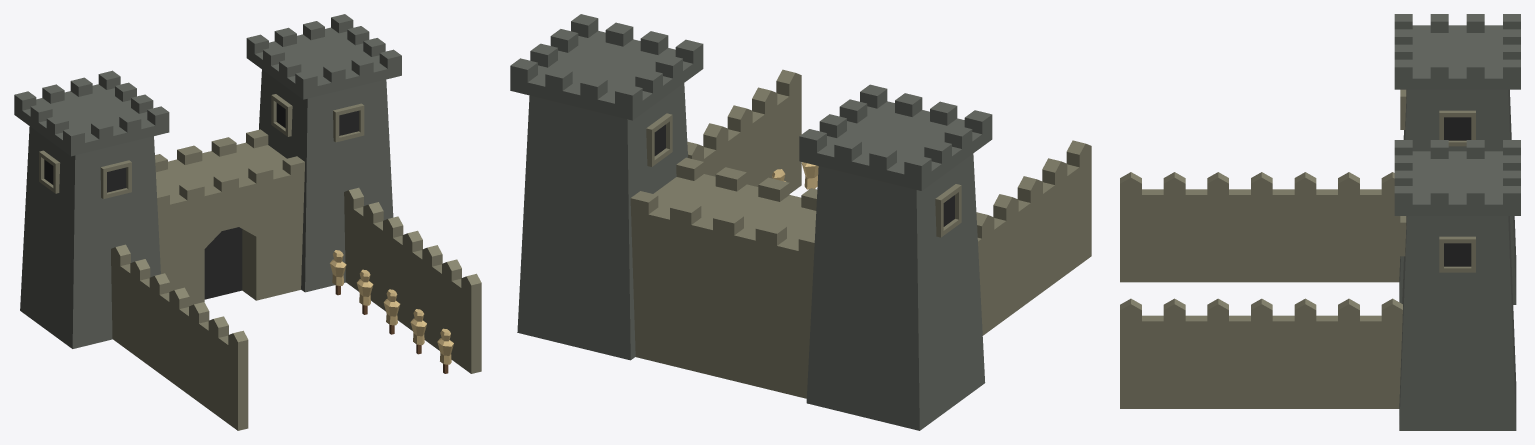
Rendered from Barracks_mat.fbx.
3 renders of one model, left to right at view 1: azimuth 30°, elevation 25°; view 2: azimuth 150°, elevation 25°; view 3: azimuth 270°, elevation 25°, orthographic. The views are drawn at different scales.
Visible parts, largest first — view 1: Barracks_mat; view 2: Barracks_mat; view 3: Barracks_mat.
Part boxes in pixels (box(x1,y1,x2,y2)): Barracks_mat: box(14, 14, 481, 430); Barracks_mat: box(510, 14, 1091, 430); Barracks_mat: box(1120, 14, 1520, 430).
Bounding box in the file's own units: 754 × 471 × 712.
